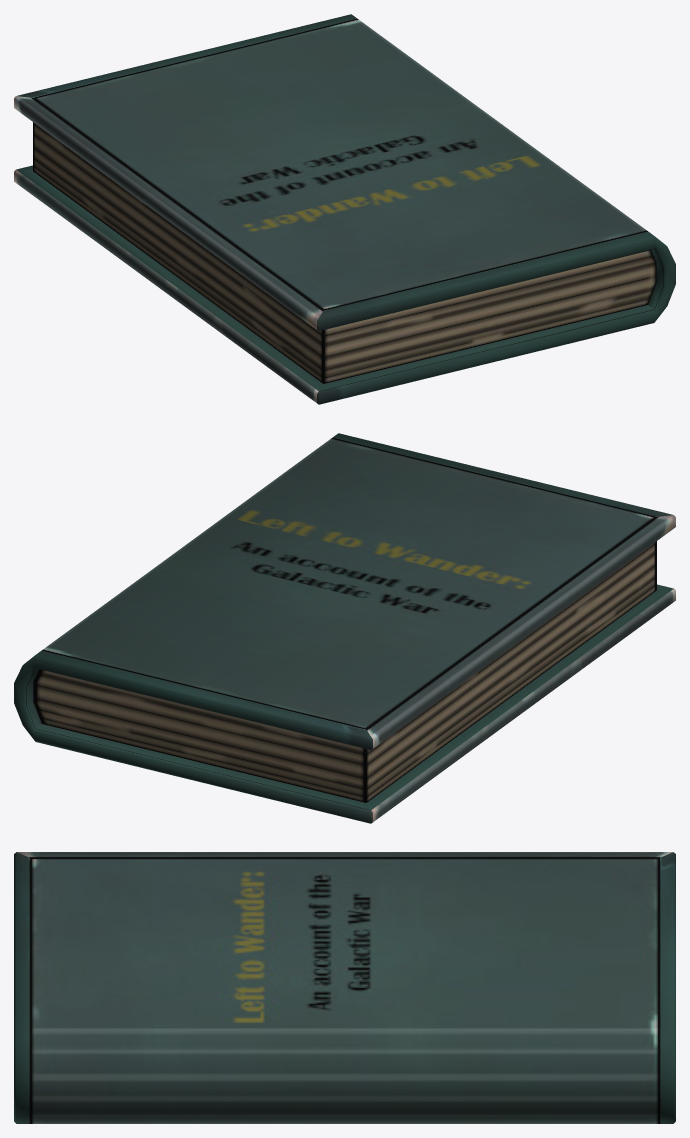
File: book_01.fbx
3 renders of one model, top to bottom at view 1: azimuth 30°, elevation 25°; view 2: azimuth 150°, elevation 25°; view 3: azimuth 270°, elevation 25°, orthographic. The views are drawn at different scales.
Parts seen in each view (by area): view 1: book_01; view 2: book_01; view 3: book_01.
Part boxes in pixels (x1,y1,x2,y2): book_01: (14,14,675,404); book_01: (14,433,675,823); book_01: (14,852,675,1123).
Bounding box in the file's own units: 27.94 × 6.47 × 41.14.
1 material, 1 textured.
